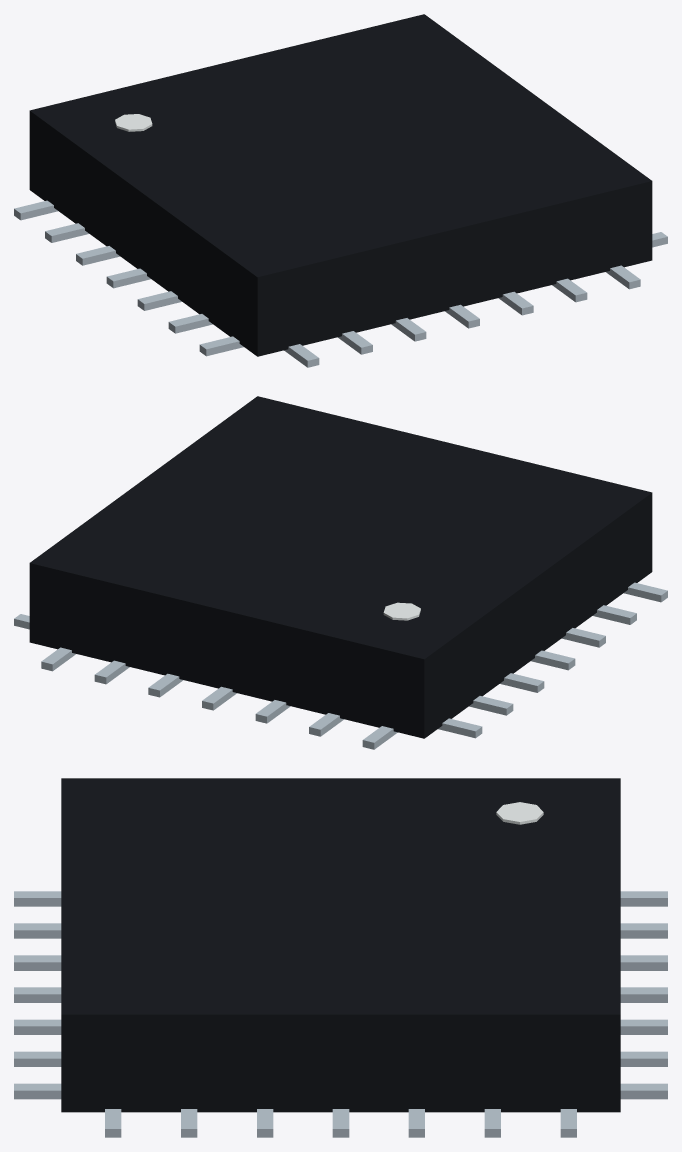
The picture shows the model from 3 angles, top to bottom: view 1: azimuth 30°, elevation 25°; view 2: azimuth 150°, elevation 25°; view 3: azimuth 270°, elevation 25°; orthographic projection. The views are drawn at different scales.
Visible parts, largest first — view 1: 013_L106_U8_000, 013_L106_U8_029, 013_L106_U8_013, 013_L106_U8_001, 013_L106_U8_005, 013_L106_U8_009, 013_L106_U8_021, 013_L106_U8_025, 013_L106_U8_017; view 2: 013_L106_U8_000, 013_L106_U8_029, 013_L106_U8_013, 013_L106_U8_021, 013_L106_U8_025, 013_L106_U8_017, 013_L106_U8_001, 013_L106_U8_005, 013_L106_U8_009; view 3: 013_L106_U8_000, 013_L106_U8_029, 013_L106_U8_026, 013_L106_U8_028, 013_L106_U8_002, 013_L106_U8_004, 013_L106_U8_006, 013_L106_U8_008, 013_L106_U8_010, 013_L106_U8_012, 013_L106_U8_014, 013_L106_U8_016 (+4 smaller).
Part boxes in pixels (box(x1,y1,x2,y2)): 013_L106_U8_000: box(29, 14, 652, 356); 013_L106_U8_029: box(115, 114, 152, 131); 013_L106_U8_013: box(106, 268, 150, 288); 013_L106_U8_001: box(199, 336, 243, 356); 013_L106_U8_005: box(168, 314, 212, 333); 013_L106_U8_009: box(137, 291, 181, 310); 013_L106_U8_021: box(45, 223, 89, 242); 013_L106_U8_025: box(14, 200, 58, 220); 013_L106_U8_017: box(76, 246, 119, 265); 013_L106_U8_000: box(29, 396, 652, 738); 013_L106_U8_029: box(383, 602, 420, 620); 013_L106_U8_013: box(531, 650, 575, 670); 013_L106_U8_021: box(469, 696, 513, 715); 013_L106_U8_025: box(438, 718, 482, 738); 013_L106_U8_017: box(500, 673, 544, 692); 013_L106_U8_001: box(623, 582, 667, 602); 013_L106_U8_005: box(592, 605, 636, 624); 013_L106_U8_009: box(562, 628, 605, 647); 013_L106_U8_000: box(61, 778, 620, 1112); 013_L106_U8_029: box(496, 802, 543, 824); 013_L106_U8_026: box(14, 1083, 61, 1099); 013_L106_U8_028: box(620, 1083, 667, 1099); 013_L106_U8_002: box(14, 891, 61, 906); 013_L106_U8_004: box(620, 891, 667, 906); 013_L106_U8_006: box(14, 923, 61, 938); 013_L106_U8_008: box(620, 923, 667, 938); 013_L106_U8_010: box(14, 955, 61, 970); 013_L106_U8_012: box(620, 955, 667, 970); 013_L106_U8_014: box(14, 987, 61, 1002); 013_L106_U8_016: box(620, 987, 667, 1002).
Bounding box in the file's own units: 0.0152 × 0.0152 × 0.00275.
